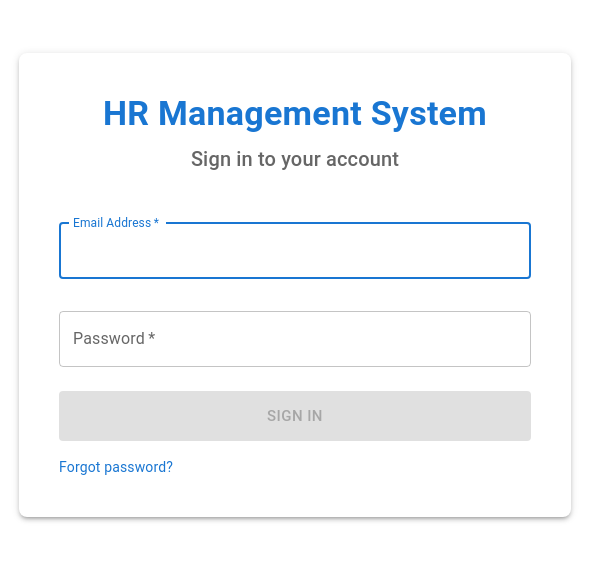
Test: LoginPage › Error Handling › allows closing error message
Type "test@example.com" into the field labelled "Email Address *" at x=295, y=251, box [59,223,531,279]
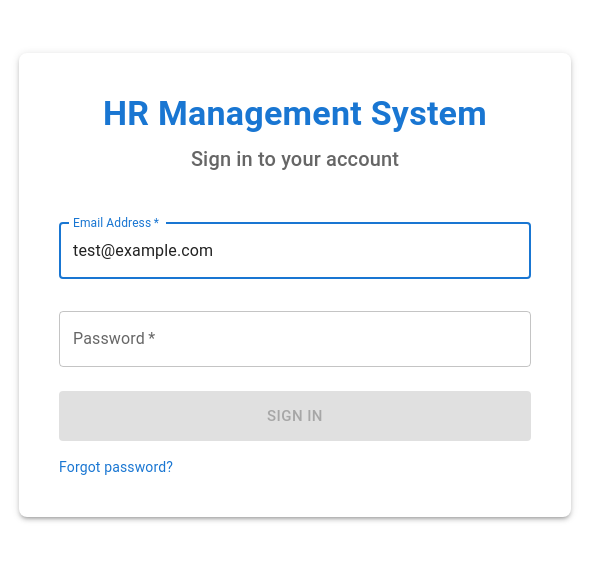
Type "password123" into the password field labelled "Password *" at x=295, y=339, box [59,311,531,367]
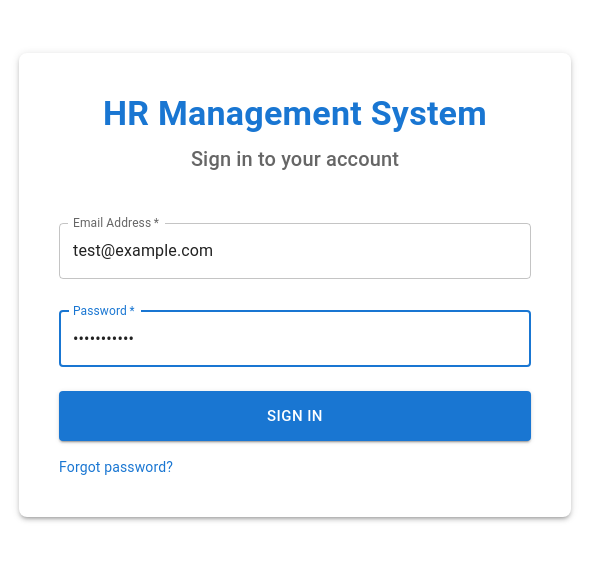
Click the button "Sign In" at x=295, y=416, box [59,391,531,441]
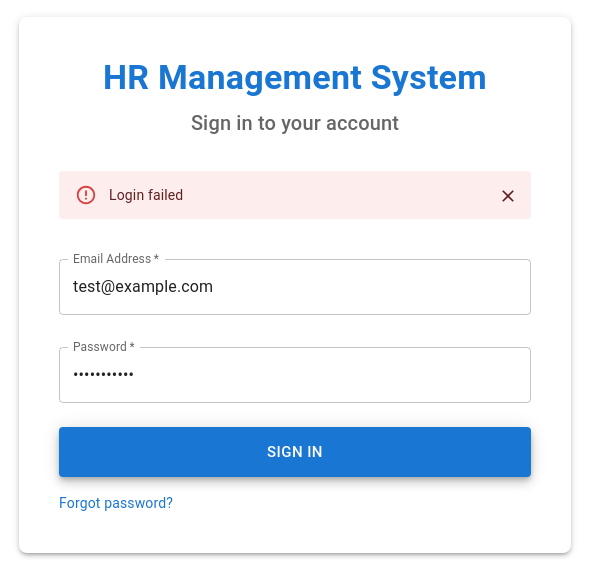
Now the message "Login failed" is shown, box [59,171,531,219]
Click the button named "close" at x=508, y=196, box [493,181,523,211]
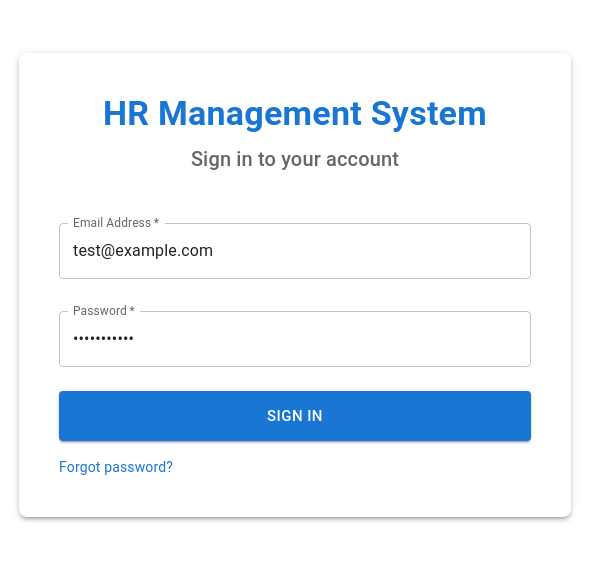
Now the message "Login failed" is gone
